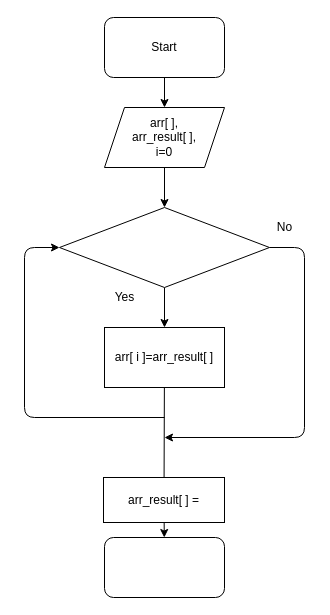
Image size: 330x615. Some labels were removed from this diagram. Here are the shapes that lost their labels. From the top down, the centre of each, then its label:
At point (164, 247): "arr[ i ].Length => 3".
At point (164, 567): "Stop".
